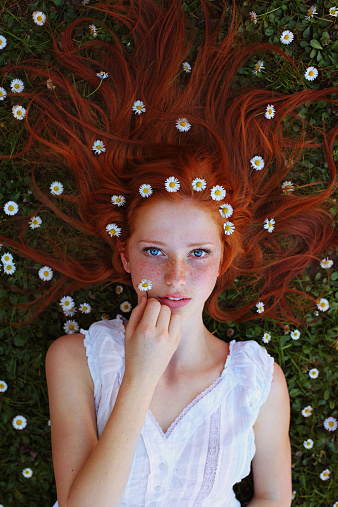deitado: (30, 165, 323, 507)
